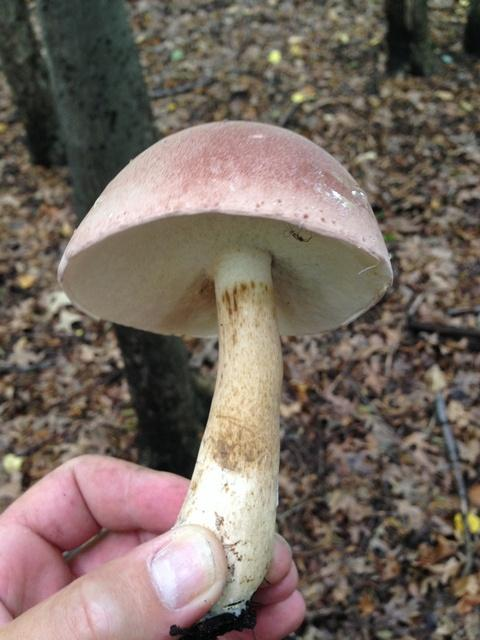poisonous_mushroom: (55, 117, 394, 635)
